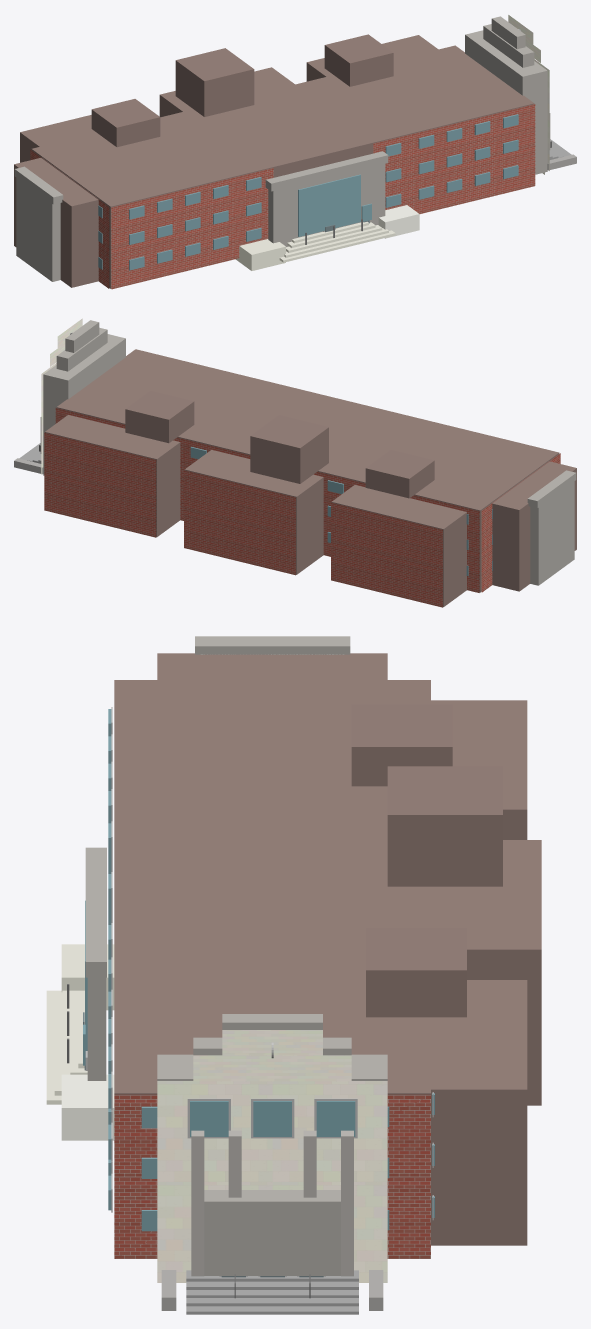
The picture shows the model from 3 angles, top to bottom: view 1: azimuth 30°, elevation 25°; view 2: azimuth 150°, elevation 25°; view 3: azimuth 270°, elevation 25°; orthographic projection. The views are drawn at different scales.
Parts seen in each view (by area): view 1: main_mass, front_brick_left, front_brick_right, boring_core, tower_-4_-12, boring_frame_outer, front_portico_core, modern_stone_frame, modern_glass, tower_18_-10, tower_-20_-9, modern_side_landing_l (×2) (+13 smaller); view 2: main_mass, rear_proj_tex_23, rear_proj_tex_0, rear_proj_tex_-23, boring_core, rear_proj_0, rear_proj_-23, rear_proj_23, tower_-4_-12, back_brick, boring_frame_outer, front_portico_core (+6 smaller); view 3: main_mass, rear_proj_23, portico_face, tower_-4_-12, right_brick, rear_proj_0, entry_recess_frame, tower_18_-10, tower_-20_-9, rear_proj_-23, boring_core, modern_side_landing_l (×2) (+22 smaller).
Boxes of the visible parts, x1=… form: main_mass: x1=31, y1=45, x2=534, y2=288; front_brick_left: x1=111, y1=168, x2=273, y2=289; front_brick_right: x1=373, y1=104, x2=535, y2=213; boring_core: x1=14, y1=157, x2=99, y2=287; tower_-4_-12: x1=175, y1=48, x2=254, y2=116; boring_frame_outer: x1=16, y1=177, x2=60, y2=281; front_portico_core: x1=465, y1=30, x2=547, y2=174; modern_stone_frame: x1=268, y1=164, x2=385, y2=246; modern_glass: x1=298, y1=174, x2=360, y2=236; tower_18_-10: x1=324, y1=34, x2=393, y2=86; tower_-20_-9: x1=91, y1=99, x2=160, y2=147; modern_side_landing_l (×2): x1=235, y1=205, x2=419, y2=270; main_mass: x1=56, y1=349, x2=559, y2=592; rear_proj_tex_23: x1=44, y1=432, x2=156, y2=537; rear_proj_tex_0: x1=184, y1=470, x2=295, y2=575; rear_proj_tex_-23: x1=331, y1=502, x2=442, y2=607; boring_core: x1=491, y1=461, x2=576, y2=591; rear_proj_0: x1=184, y1=450, x2=323, y2=574; rear_proj_-23: x1=331, y1=485, x2=466, y2=607; rear_proj_23: x1=45, y1=415, x2=180, y2=537; tower_-4_-12: x1=250, y1=415, x2=328, y2=483; back_brick: x1=55, y1=408, x2=479, y2=592; boring_frame_outer: x1=530, y1=481, x2=574, y2=585; front_portico_core: x1=43, y1=334, x2=125, y2=475; main_mass: x1=114, y1=680, x2=430, y2=1094; rear_proj_23: x1=431, y1=980, x2=527, y2=1245; portico_face: x1=157, y1=1081, x2=387, y2=1282; tower_-4_-12: x1=387, y1=766, x2=502, y2=886; right_brick: x1=114, y1=1094, x2=430, y2=1258; rear_proj_0: x1=431, y1=840, x2=541, y2=1105; entry_recess_frame: x1=204, y1=1190, x2=340, y2=1275; tower_18_-10: x1=366, y1=928, x2=466, y2=1017; tower_-20_-9: x1=351, y1=704, x2=452, y2=786; rear_proj_-23: x1=431, y1=700, x2=527, y2=839; boring_core: x1=157, y1=653, x2=387, y2=679; modern_side_landing_l (×2): x1=61, y1=944, x2=114, y2=1140.
Bounding box in the file's own units: 83.28 × 20.9 × 34.58.
